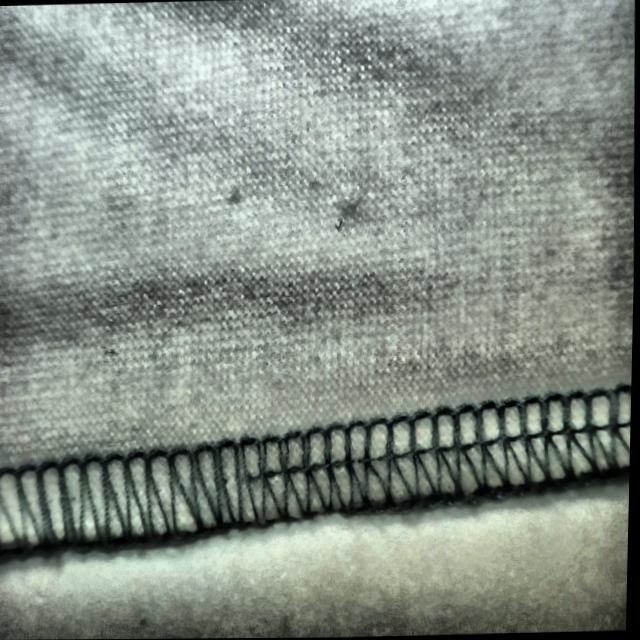Stitch: (47, 409, 427, 554)
